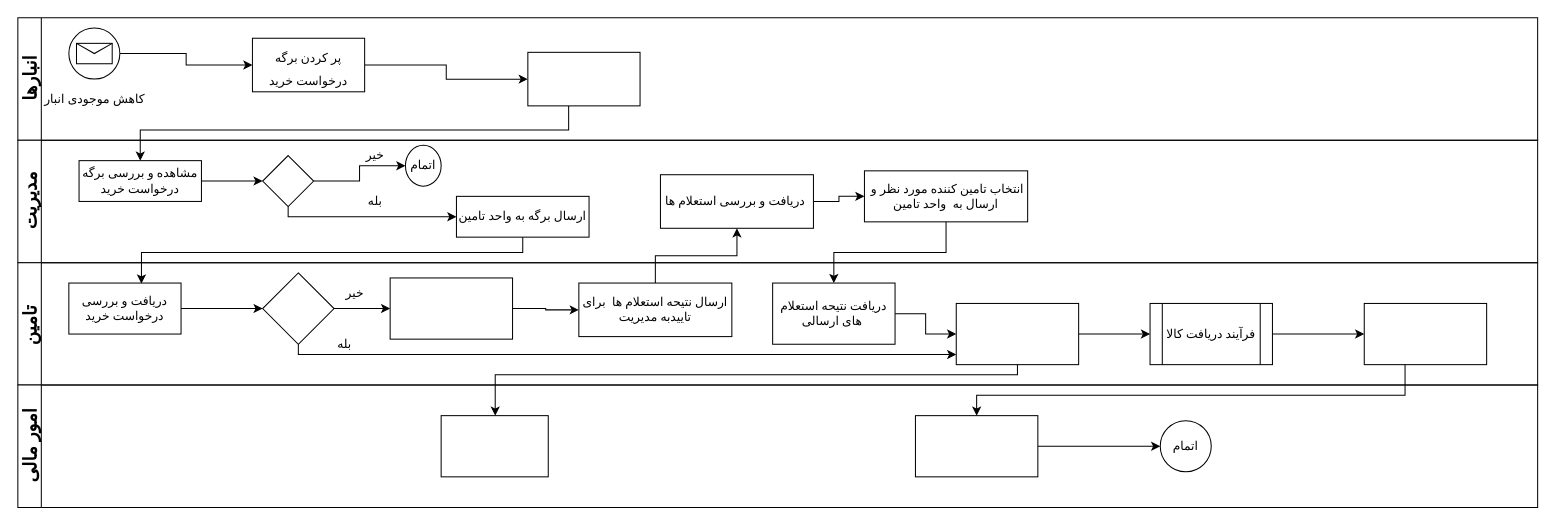
Some shapes in this 1556 by 525 pixel diagram are drawn without their labels. The centre of each missing label's shape, as x and y in pixels:
ااقدام برای دریافت تاییدیه: the point at 583,78
ارسال پیش فاکتور سفارش خرید مشخص شده: the point at 494,446
استعلام از تامین کننده ها و پر کردن فرم استعلام: the point at 451,308
تامین کننده مشخص باشد: the point at 298,308
تایید: the point at 288,181
ثبت سفارش خرید: the point at 1017,333
دریافت فاکتور ارسالی و اقدام به پرداخت: the point at 976,446
دریافت فاکتور تامین کننده و ارسال به امور مالی: the point at 1425,333
